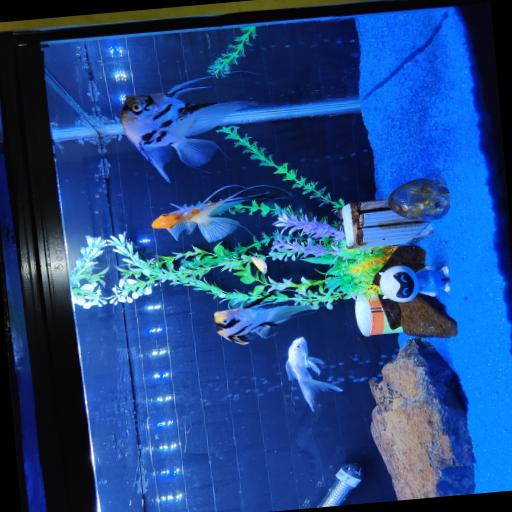Fish: (121, 76, 255, 181), (152, 185, 274, 242), (214, 296, 315, 344), (286, 337, 342, 411), (252, 256, 267, 273)
